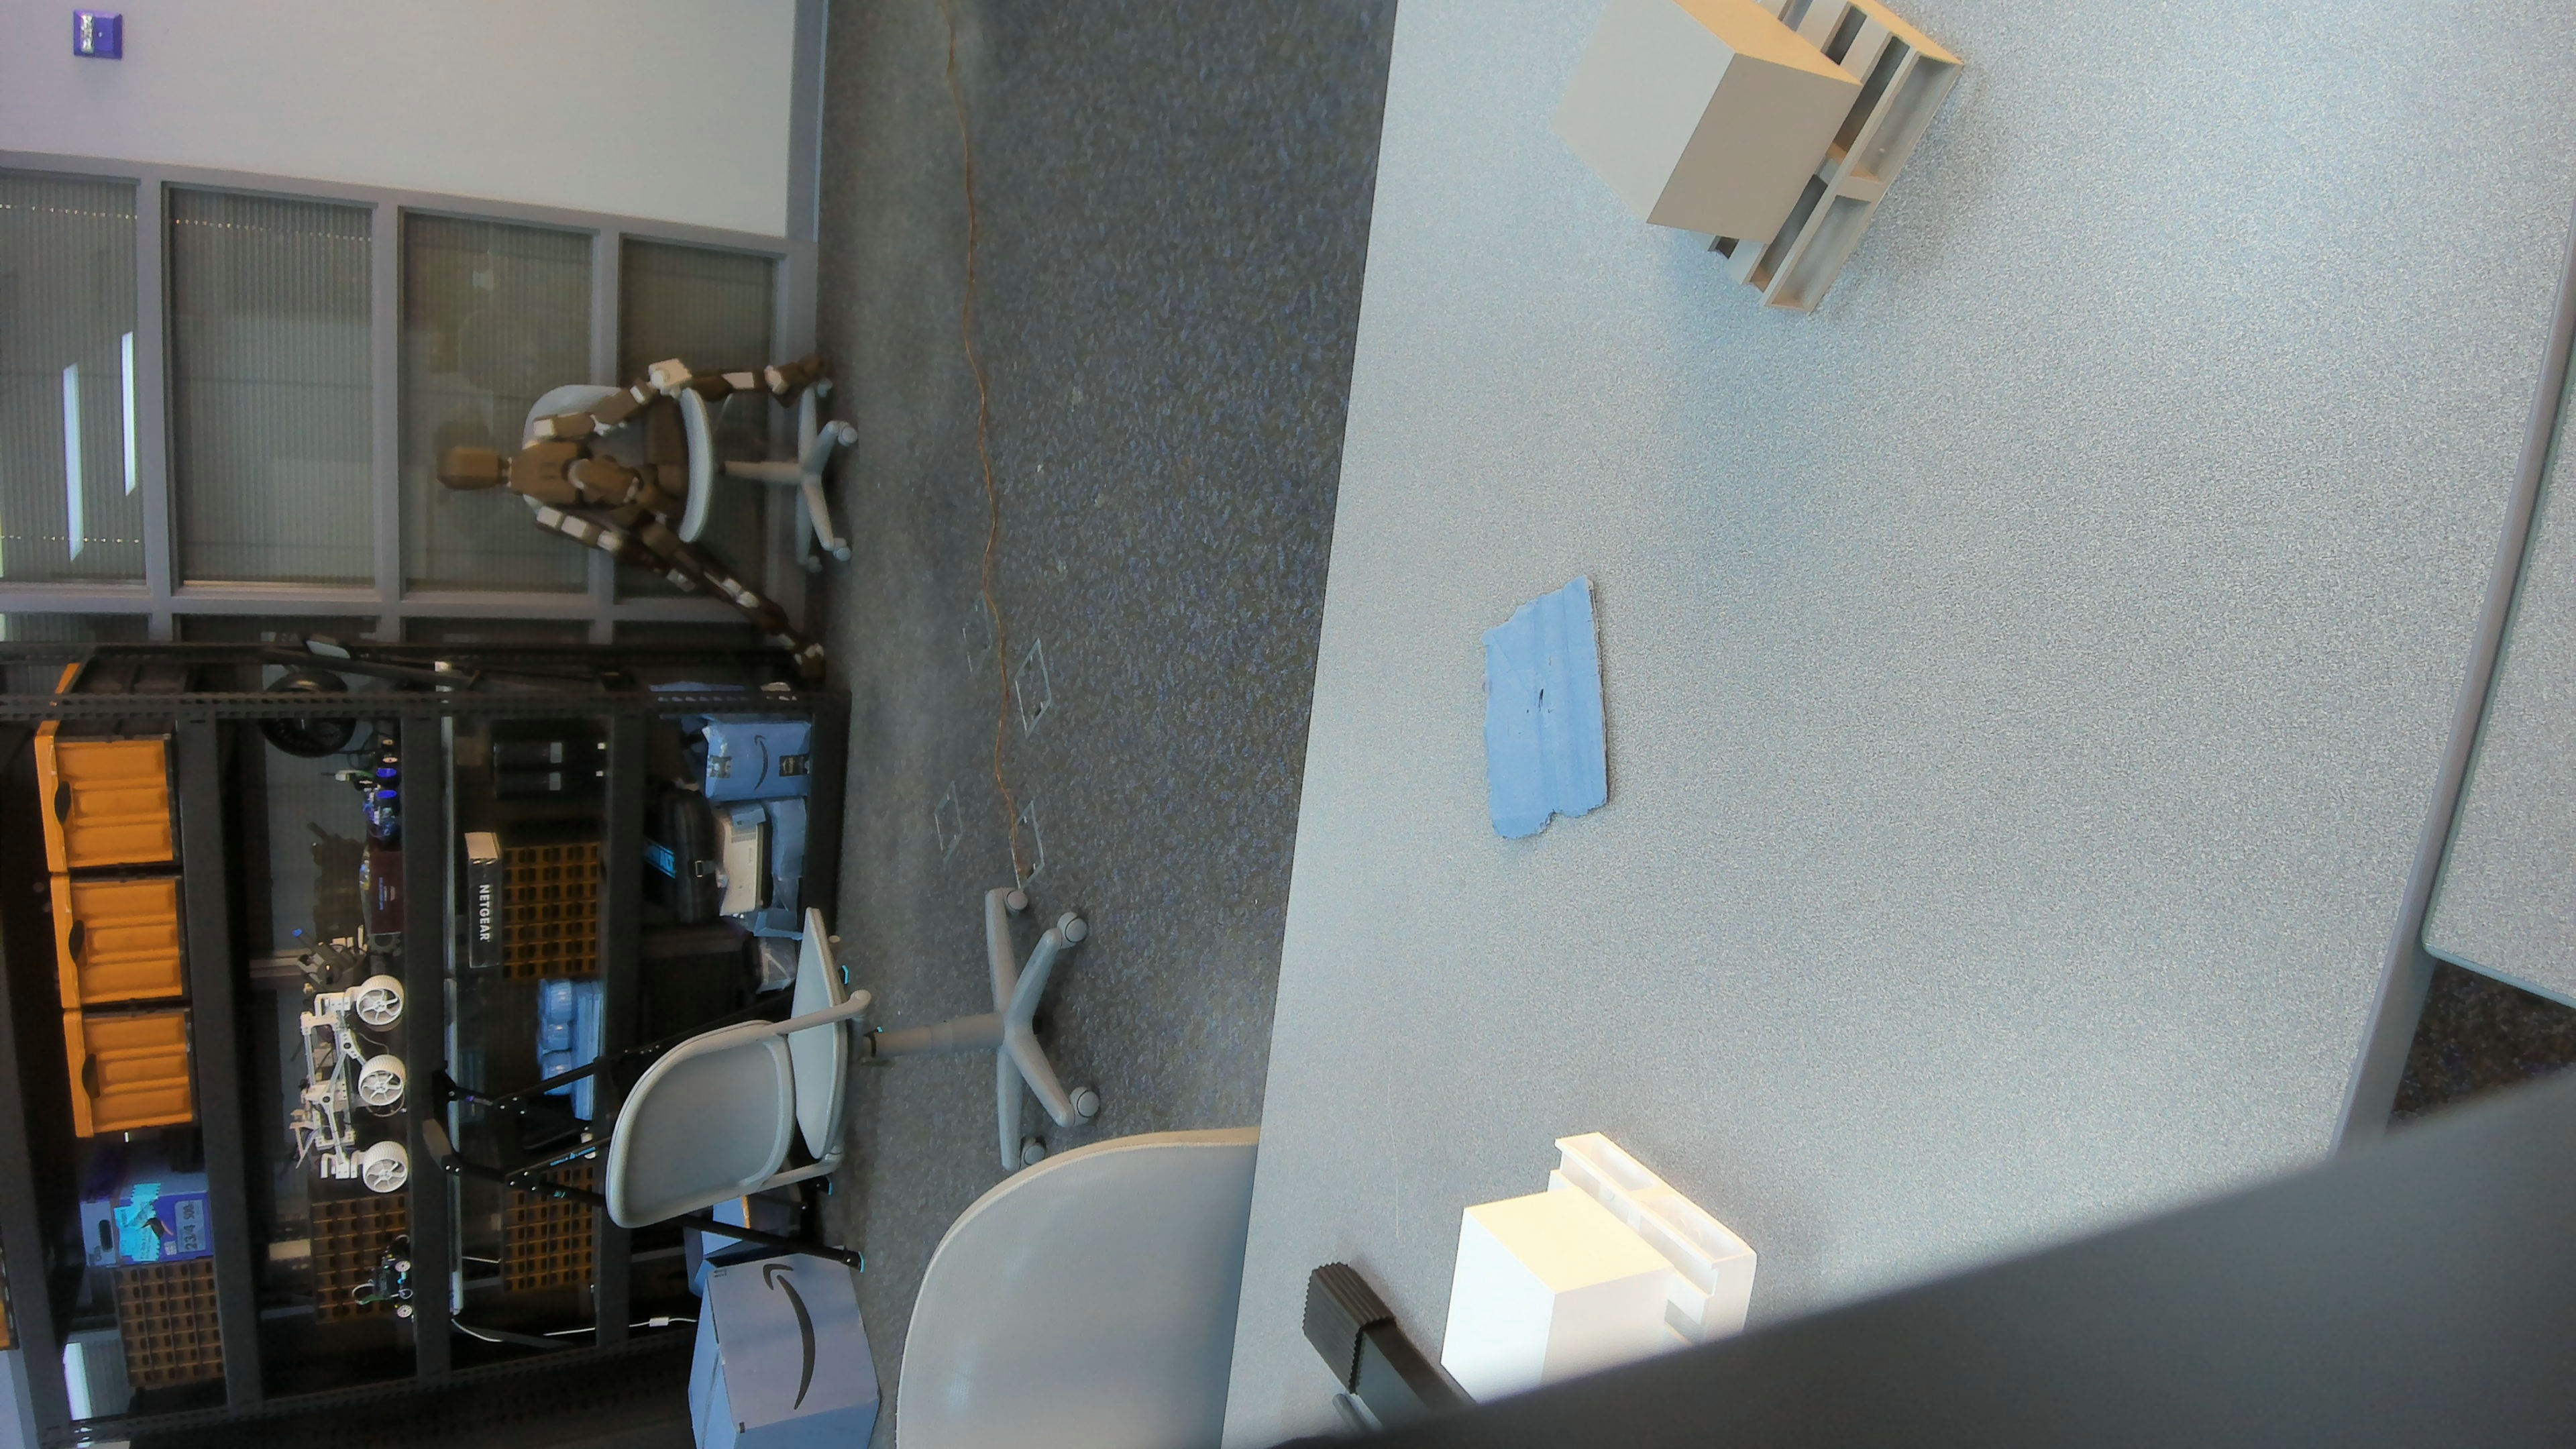grey pallet: (1543, 9, 1982, 324)
white pallet: (1430, 1127, 1760, 1408)
